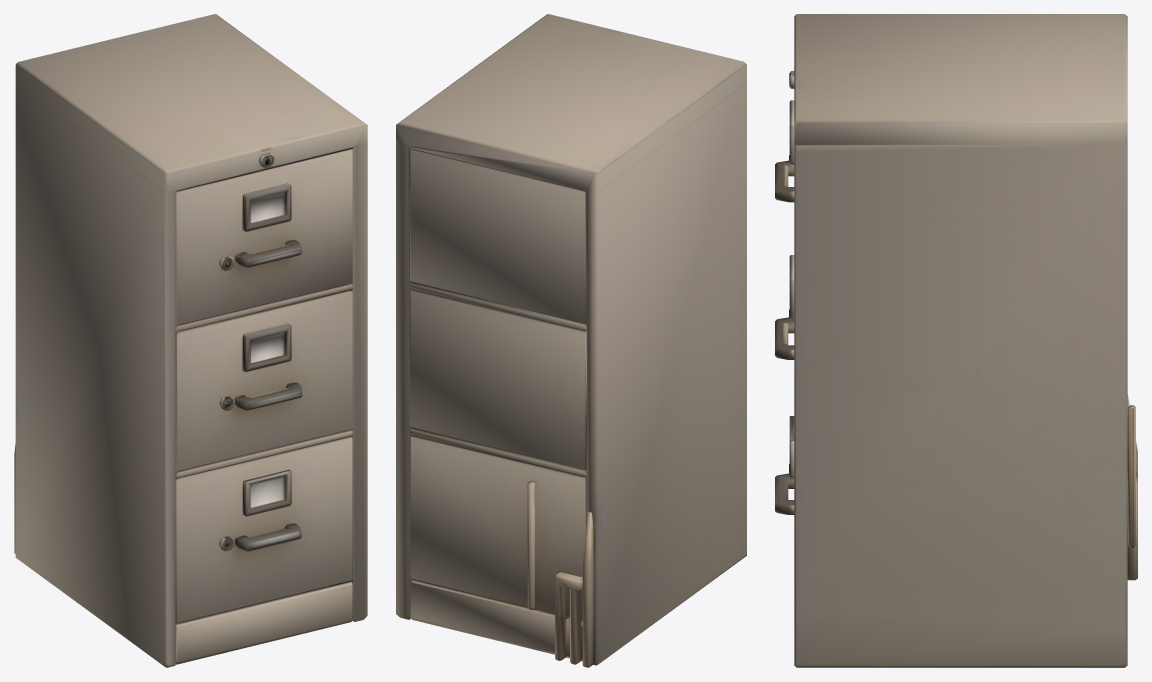
File: tall_filing_cabinet_78ed2fea_v4.glb
3 views of the same model, side by side, from view 1: azimuth 30°, elevation 25°; view 2: azimuth 150°, elevation 25°; view 3: azimuth 270°, elevation 25° (orthographic). The views are drawn at different scales.
Parts seen in each view (by area): view 1: material; view 2: material; view 3: material.
Boxes of the visible parts, x1=… form: material: x1=14, y1=14, x2=367, y2=667; material: x1=396, y1=14, x2=746, y2=667; material: x1=775, y1=14, x2=1137, y2=667.
Bounding box in the file's own units: 0.8098 × 1.9 × 1.14.
1 material, 1 textured.
